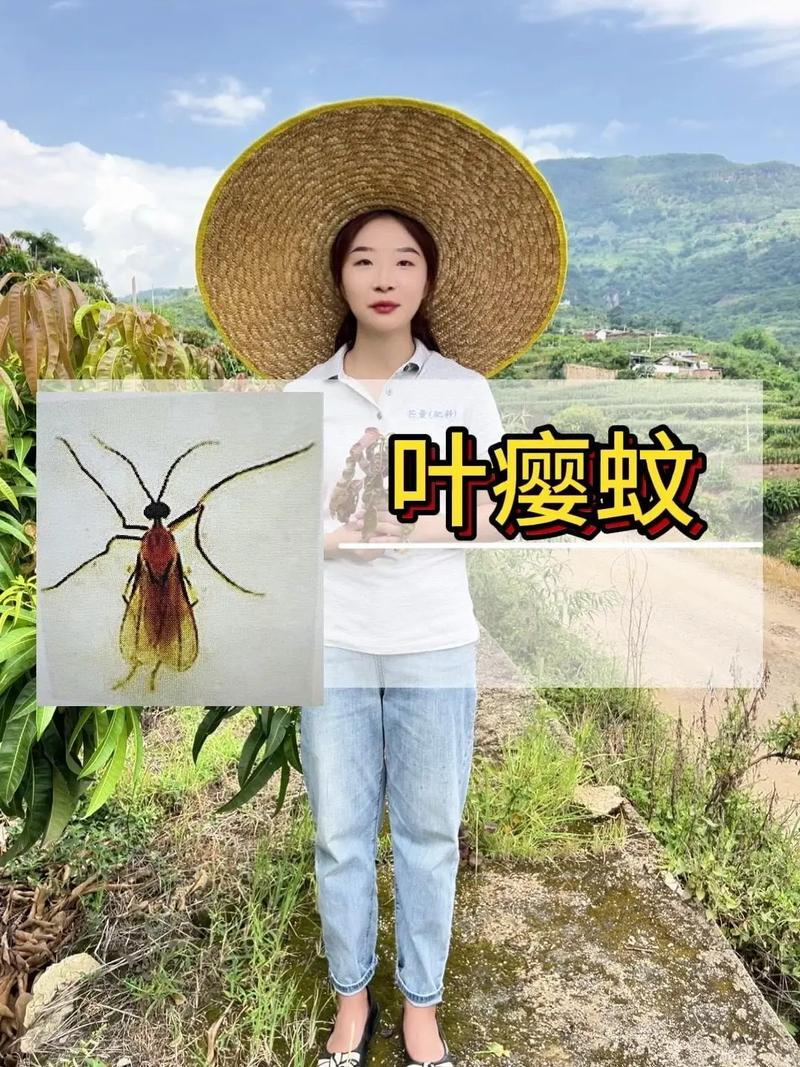Cecidomyiidae: (34, 395, 314, 699)
